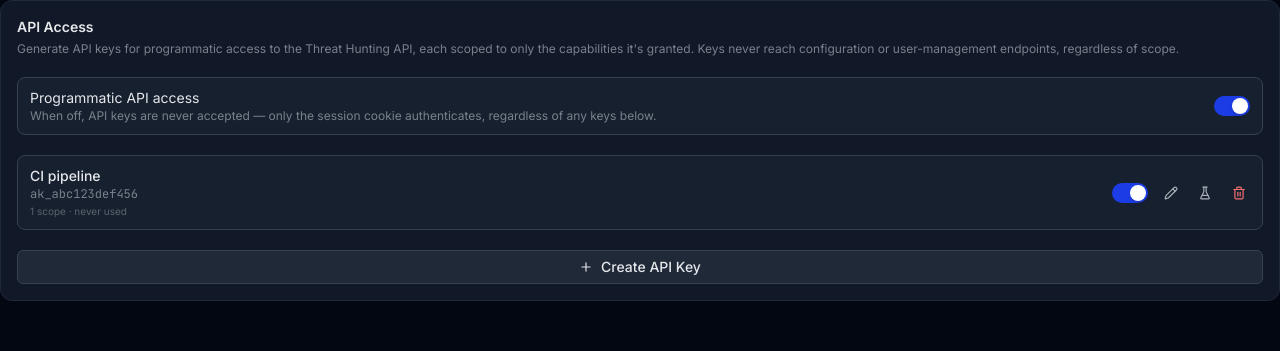
Test: ApiAccessTab › runs a key test and shows the result inline
This screenshot has width=1280, height=351.
Expected: the text "CI pipeline" is shown, top-left (30, 167), bottom-right (101, 184)
Click the button titled "Test key".
click(1205, 192)  # box top-left (1194, 182), bottom-right (1216, 204)
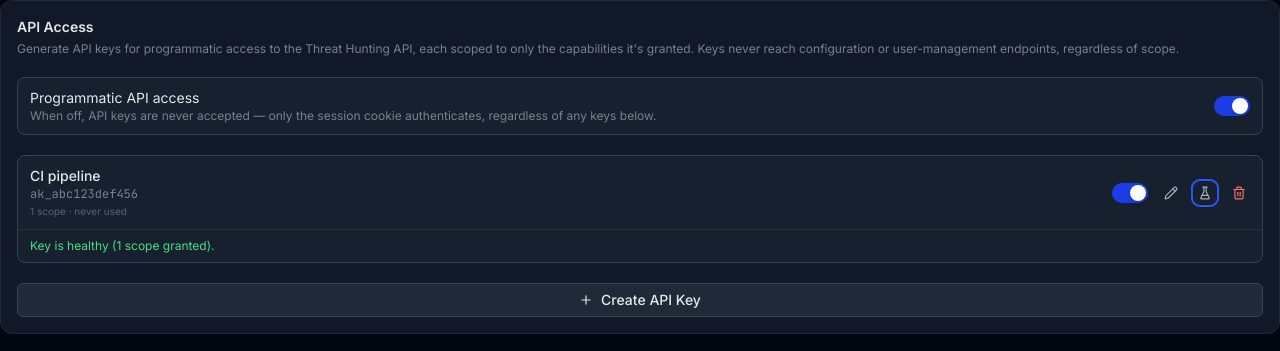
Now the text "Key is healthy (1 scope granted)." is shown, box top-left (18, 229), bottom-right (1262, 262)
